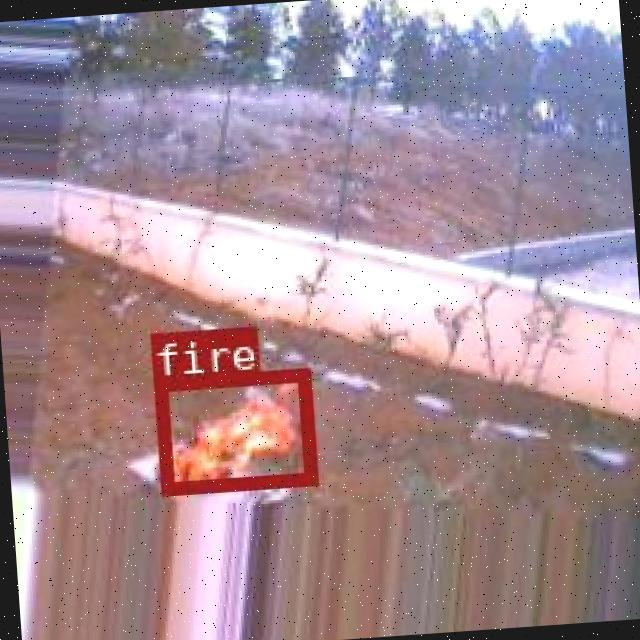fire: (150, 365, 316, 492)
